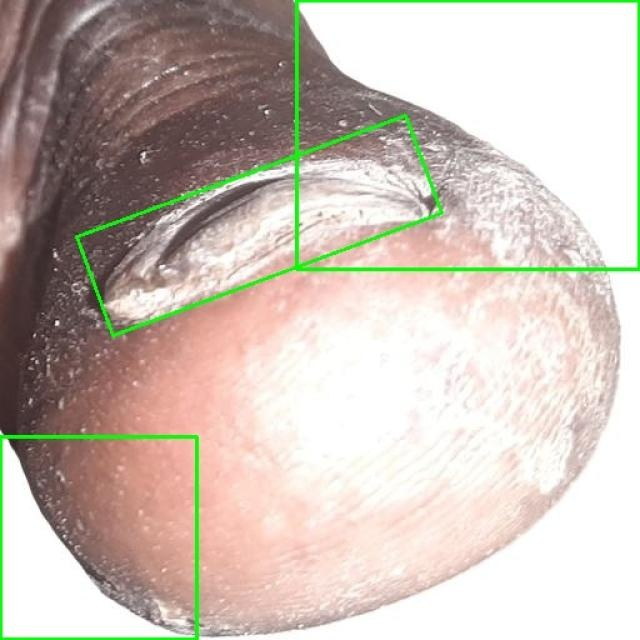Contact Dermatitis: (296, 0, 639, 269), (77, 116, 442, 335), (0, 436, 196, 639)
